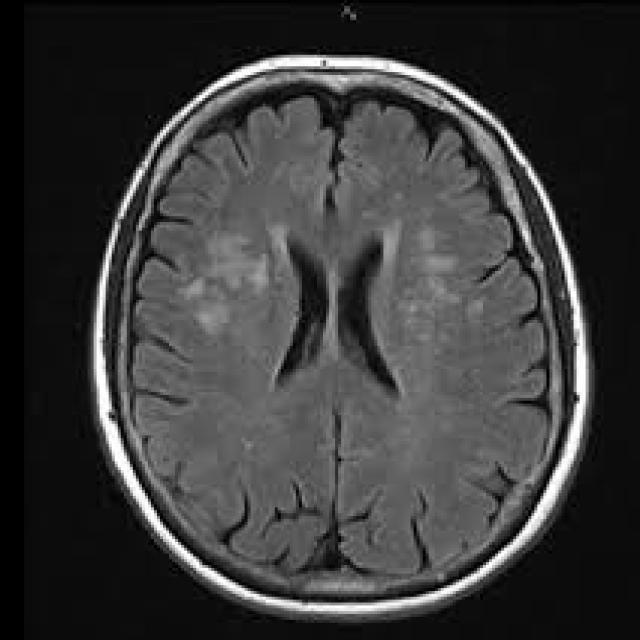No_Tumor: (94, 56, 591, 618)
